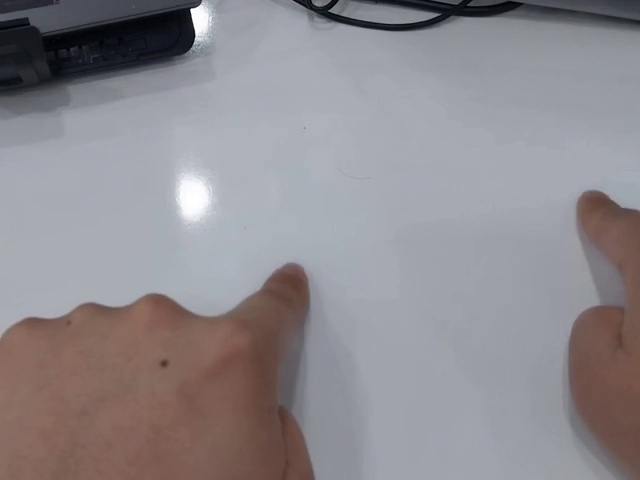fingers: (574, 188, 626, 250), (262, 260, 311, 314)
